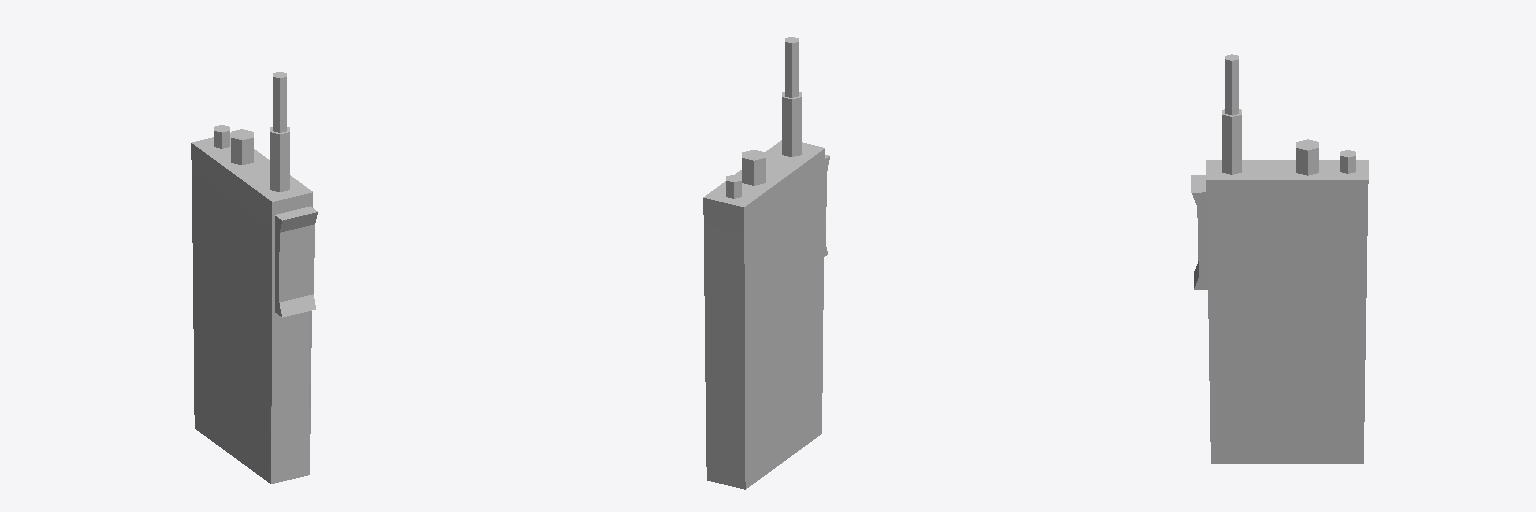
File: walkietalkie.obj
3 views of the same model, side by side, from view 1: azimuth 30°, elevation 25°; view 2: azimuth 150°, elevation 25°; view 3: azimuth 270°, elevation 25° (orthographic).
Parts seen in each view (by area): view 1: pCylinder4; view 2: pCylinder4; view 3: pCylinder4.
Part boxes in pixels (x1,y1,x2,y2): pCylinder4: (191, 72, 317, 483); pCylinder4: (703, 37, 829, 489); pCylinder4: (1191, 54, 1368, 463).
Bounding box in the file's own units: 0.2127 × 1.97 × 0.7967.